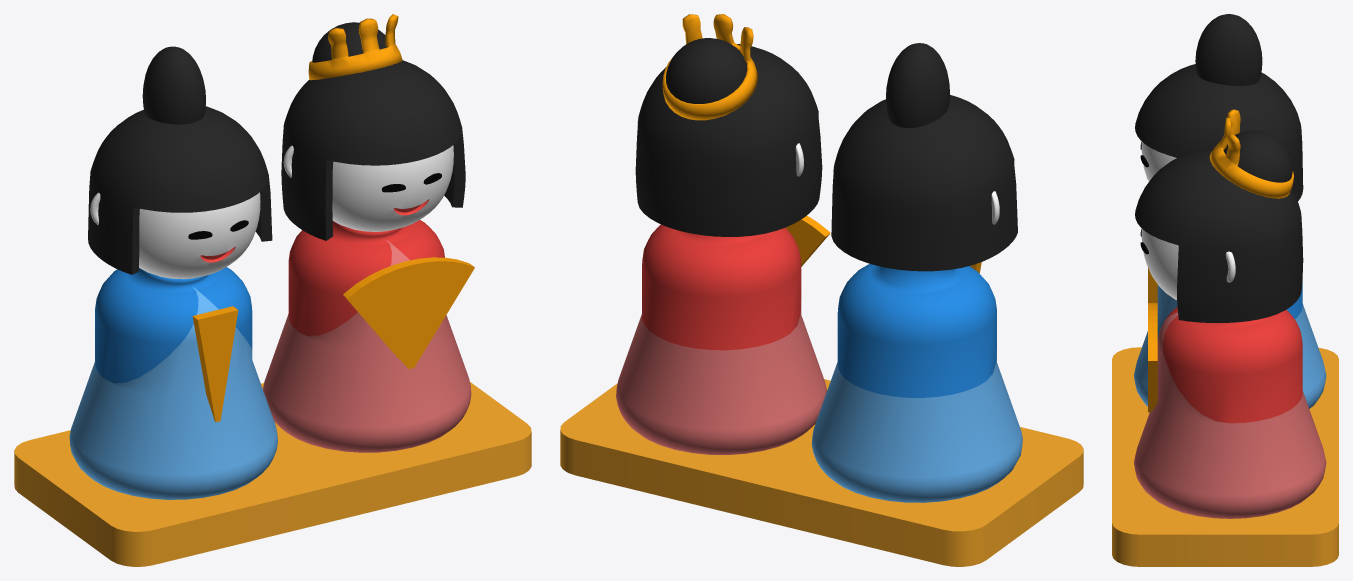
The model's file is japanese_dolls.glb.
The picture shows the model from 3 angles, left to right: view 1: azimuth 30°, elevation 25°; view 2: azimuth 150°, elevation 25°; view 3: azimuth 270°, elevation 25°; orthographic projection. The views are drawn at different scales.
Visible parts, largest first — view 1: Cylinder.468, Cube.922, Roundcube.506, Roundcube.508, Roundcube.505, Roundcube.507, Sphere.516, Sphere.515; view 2: Cylinder.468, Cube.922, Roundcube.508, Roundcube.506, Sphere.516, Sphere.515; view 3: Cylinder.468, Cube.922, Roundcube.506, Roundcube.508, Sphere.516, Sphere.515, Roundcube.505, Roundcube.507.
Part boxes in pixels (x1,y1,x2,y2): Cylinder.468: (69,14,474,499); Cube.922: (14,382,531,566); Roundcube.506: (281,60,465,240); Roundcube.508: (88,106,272,274); Roundcube.505: (332,145,453,231); Roundcube.507: (139,192,260,279); Sphere.516: (142,46,205,124); Sphere.515: (312,22,386,62); Cylinder.468: (616,14,1022,502); Cube.922: (560,379,1083,566); Roundcube.508: (831,95,1017,271); Roundcube.506: (635,44,822,236); Sphere.516: (886,43,949,127); Sphere.515: (666,38,747,103); Cylinder.468: (1134,109,1326,518); Cube.922: (1112,347,1338,566); Roundcube.506: (1135,148,1303,322); Roundcube.508: (1135,64,1303,200); Sphere.516: (1195,14,1262,85); Sphere.515: (1223,130,1292,182); Roundcube.505: (1141,229,1178,300); Roundcube.507: (1141,142,1176,181).
Bounding box in the file's own units: 2.21 × 2.27 × 1.13.
1 material, 1 textured.
